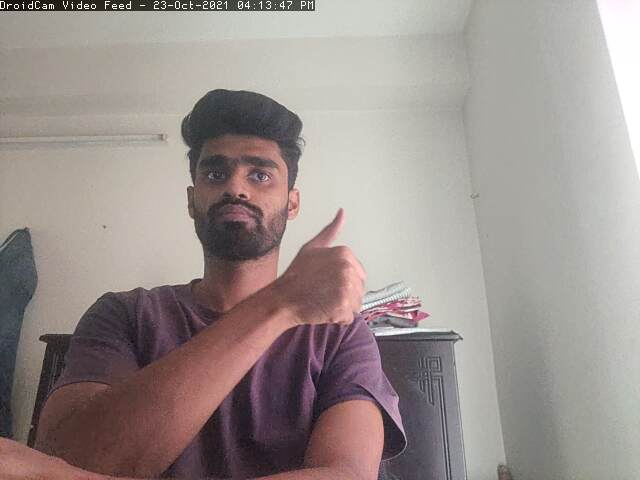ThumbsUp: (282, 206, 365, 325)
